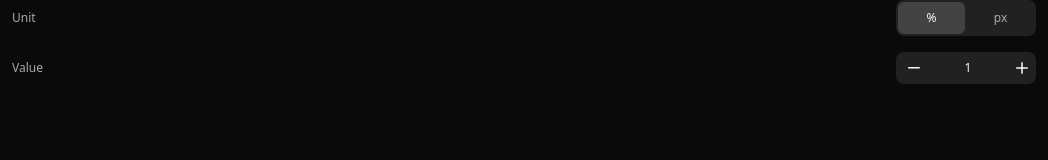
it: UnitValueInput Component › When unit is % › minus and plus button
The width and height of the screenshot is (1048, 160).
Click the button named "btn-plus" at (1020, 68), box left=1004, top=52, right=1036, bottom=84
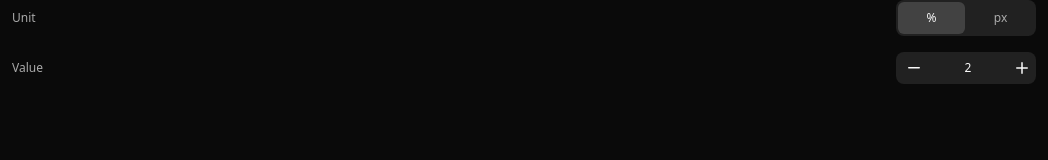
Expected: the field holds "2", left=932, top=52, right=1004, bottom=84
Click the button named "btn-minus" at (914, 68), box left=896, top=52, right=932, bottom=84
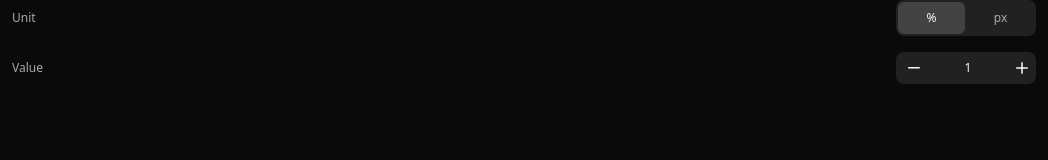
Expected: the field holds "1", left=932, top=52, right=1004, bottom=84
